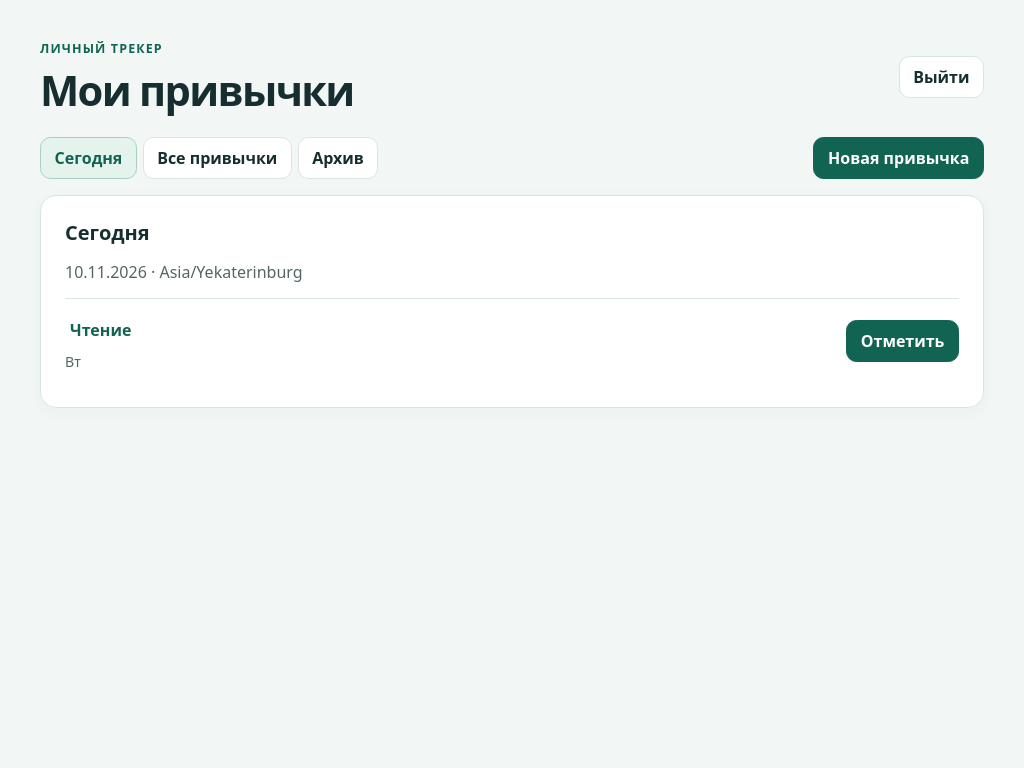
Привычки › блокирует редактирование после сбоя обновления карточки и открывает свежие данные после повтора
Click the button "Чтение": coordinates (106, 330) left=65, top=310, right=146, bottom=352
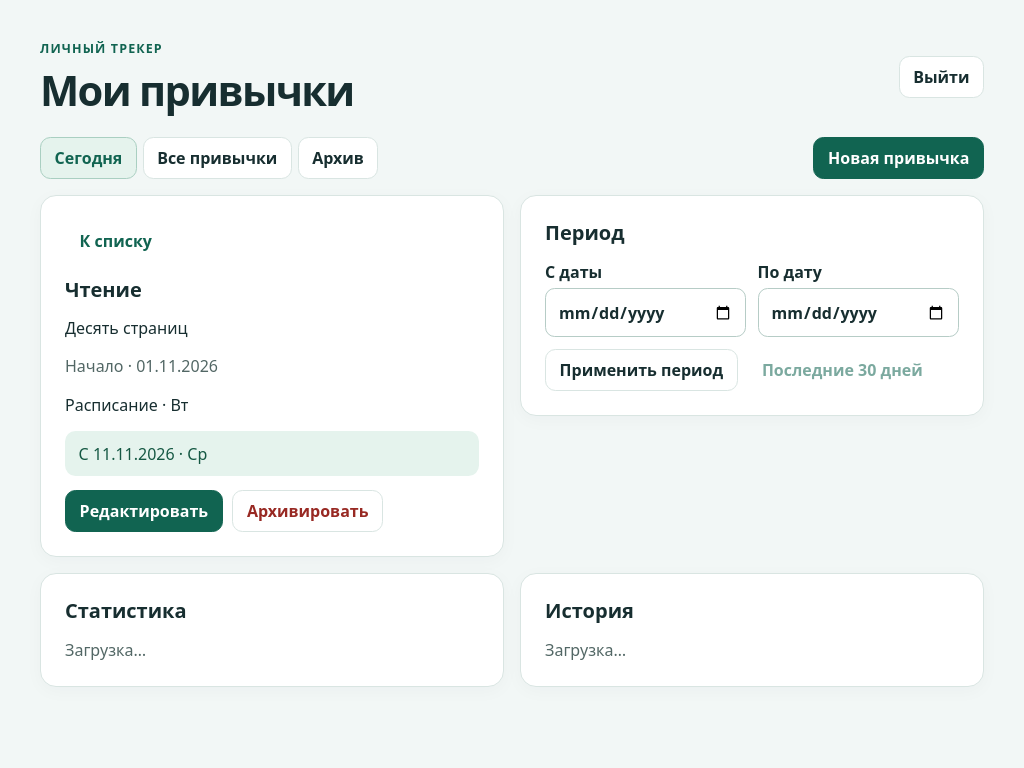
Click the button "Редактировать": coordinates (144, 511) left=65, top=490, right=223, bottom=532
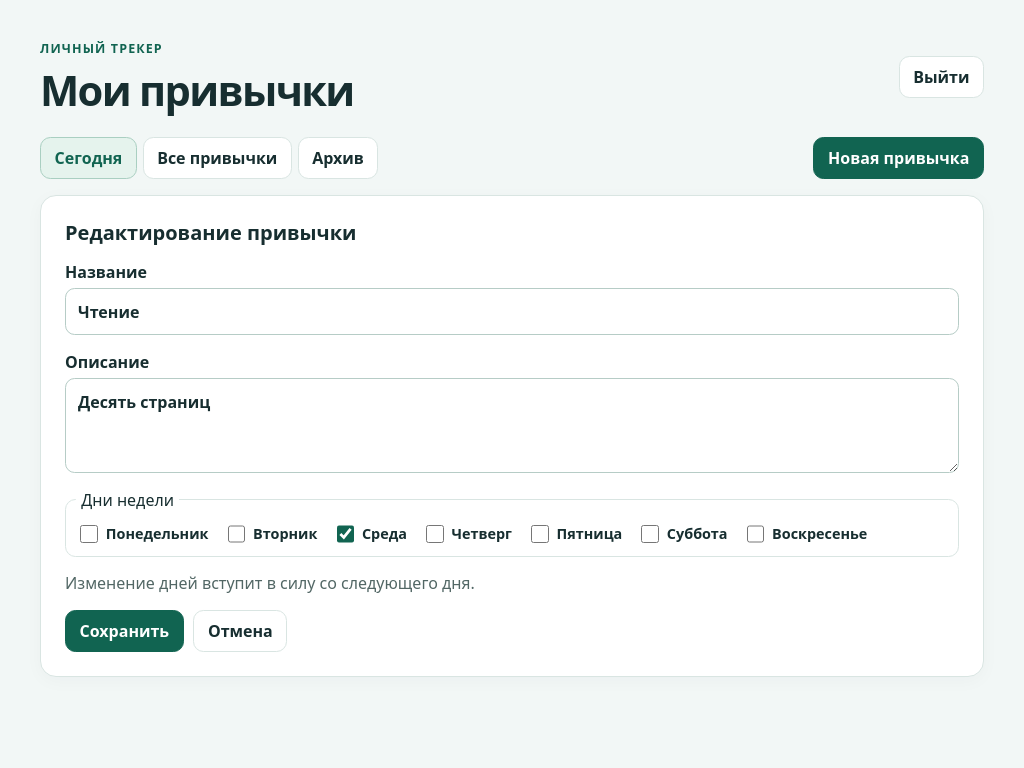
Replace the text in the field labelled "Название" with "Вечернее чтение": coordinates (512, 312) left=65, top=288, right=959, bottom=335
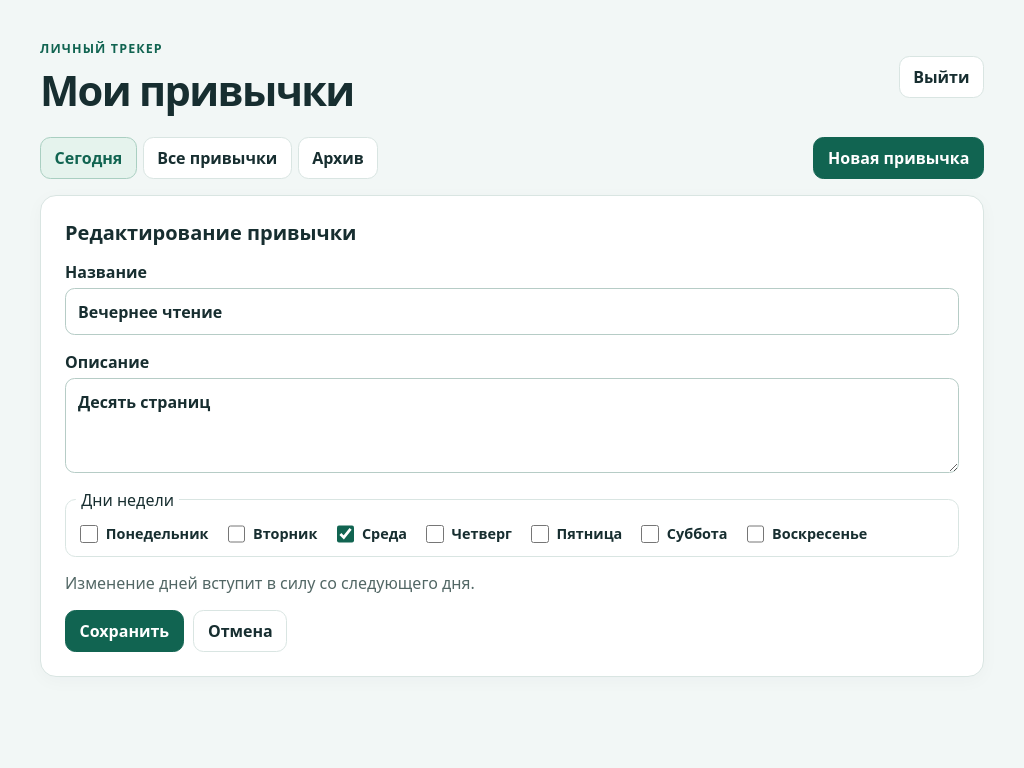
Click the button "Сохранить": coordinates (124, 631) left=65, top=610, right=184, bottom=652
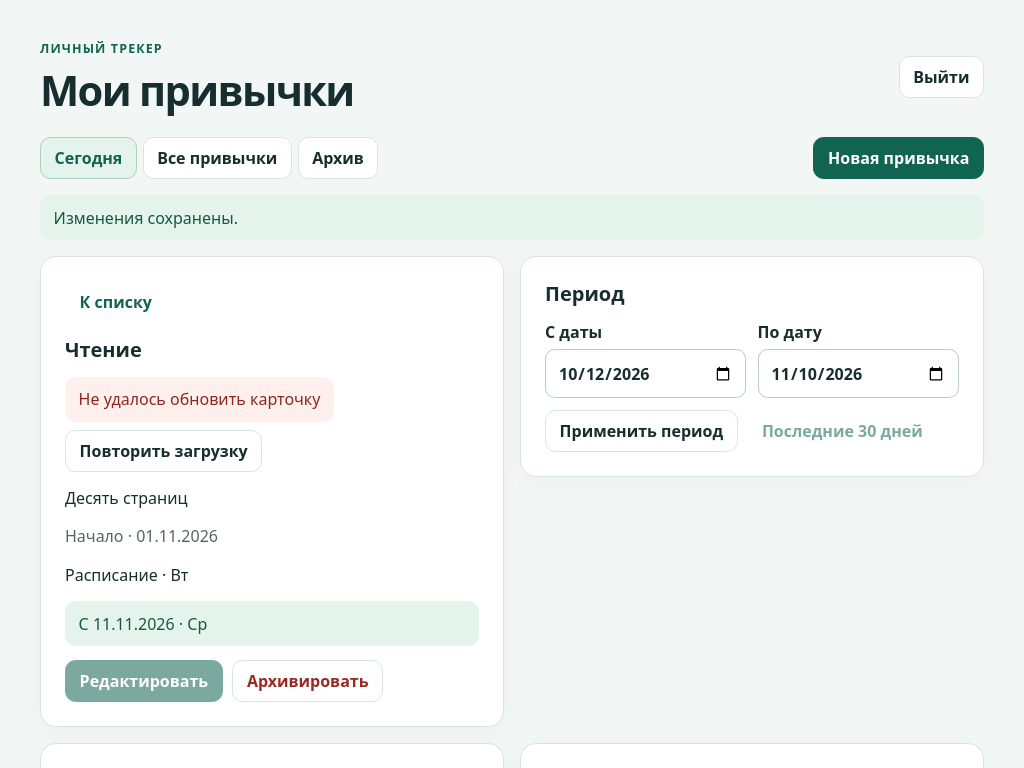
Expected: the text "Изменения сохранены." is shown, left=40, top=195, right=984, bottom=240
Expected: the text "Не удалось обновить карточку" is shown, left=65, top=377, right=334, bottom=422
Expected: the button "Редактировать" is disabled, left=65, top=660, right=223, bottom=702
Click the button "Повторить загрузку": coordinates (164, 451) left=65, top=430, right=262, bottom=472
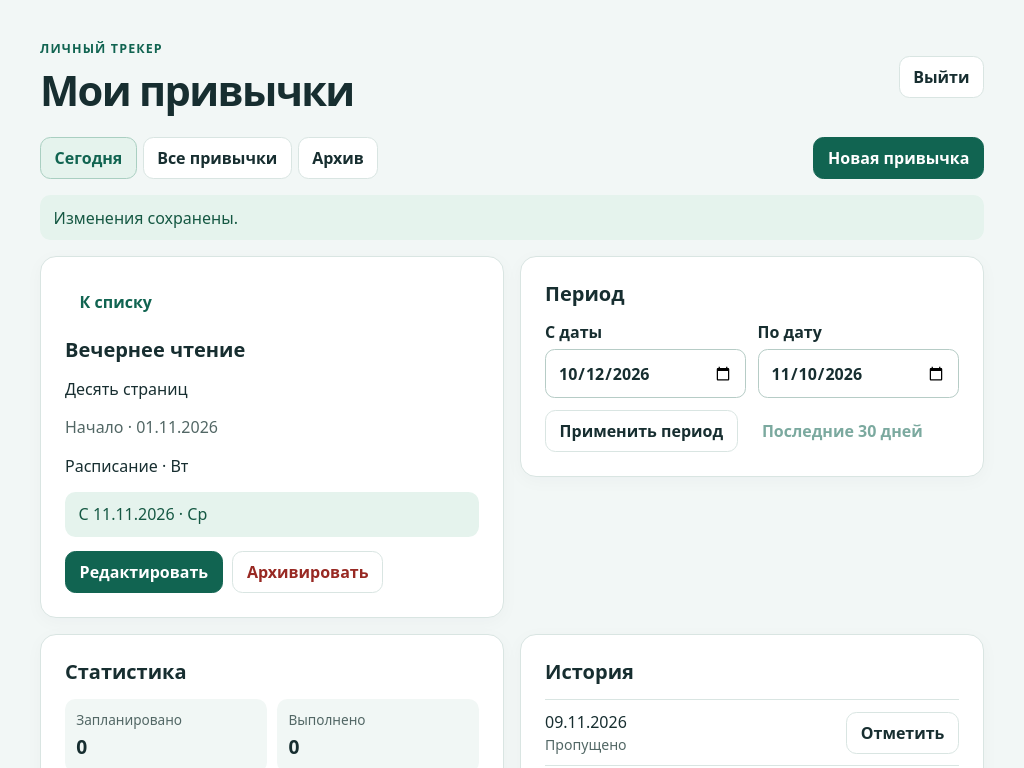
Expected: the button "Редактировать" is enabled
Click the button "Редактировать": coordinates (144, 572) left=65, top=551, right=223, bottom=593
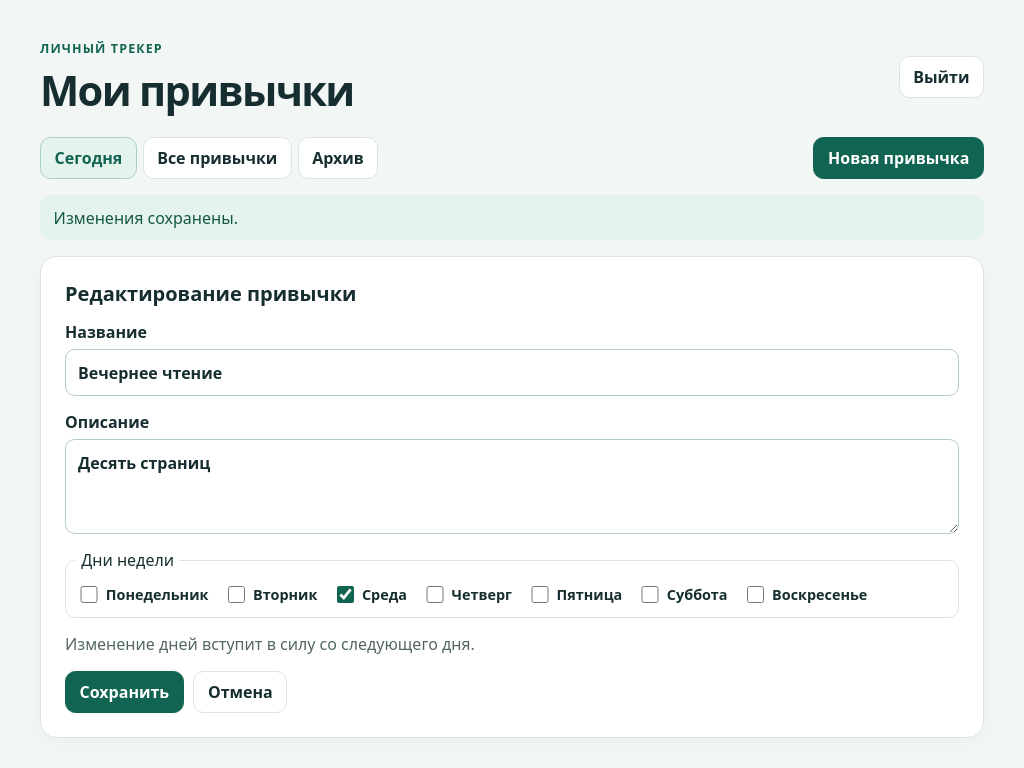
Expected: the field labelled "Название" holds "Вечернее чтение", left=65, top=349, right=959, bottom=396
